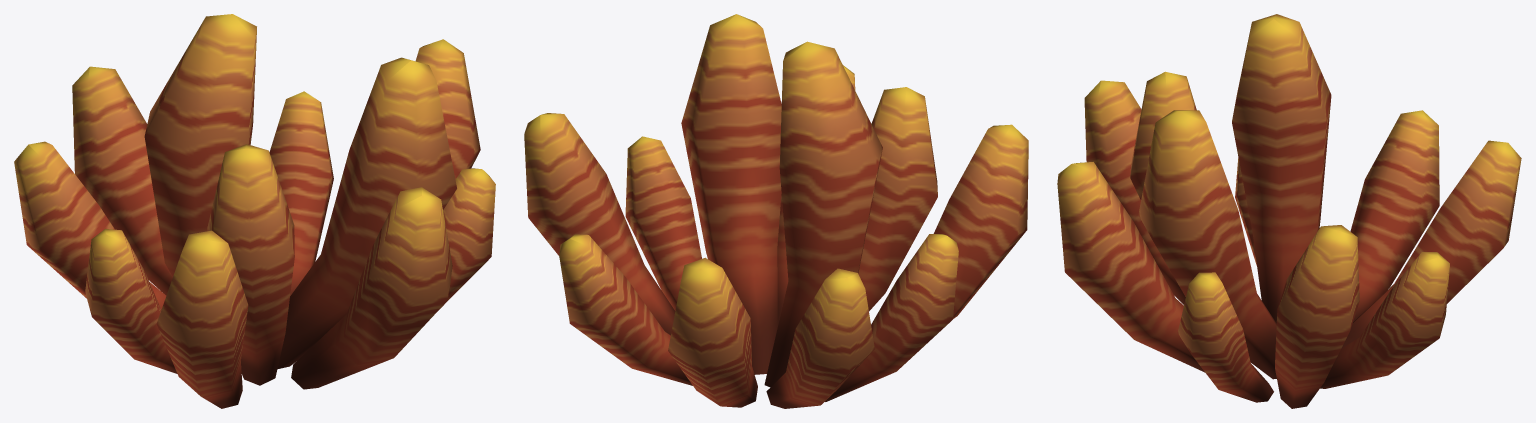
Rendered from Coral_06c.FBX.
3 renders of one model, left to right at view 1: azimuth 30°, elevation 25°; view 2: azimuth 150°, elevation 25°; view 3: azimuth 270°, elevation 25°, orthographic. The views are drawn at different scales.
Parts seen in each view (by area): view 1: Coral_06c; view 2: Coral_06c; view 3: Coral_06c.
Boxes of the visible parts, x1,y1,x2,y2 form: Coral_06c: [14, 14, 495, 408]; Coral_06c: [524, 14, 1028, 408]; Coral_06c: [1057, 14, 1521, 408].
Bounding box in the file's own units: 17.07 × 14.42 × 18.
